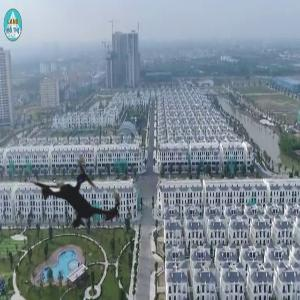drone: (11, 126, 152, 267)
